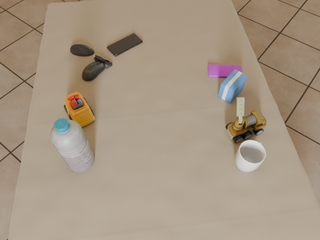bottle: (51, 119, 94, 172)
box: (218, 69, 247, 103)
cup: (235, 140, 266, 172)
mouse: (82, 55, 112, 81), (70, 44, 94, 56)
phone: (107, 33, 143, 56), (208, 65, 241, 78)
toy_car: (226, 97, 266, 143), (64, 92, 95, 127)
